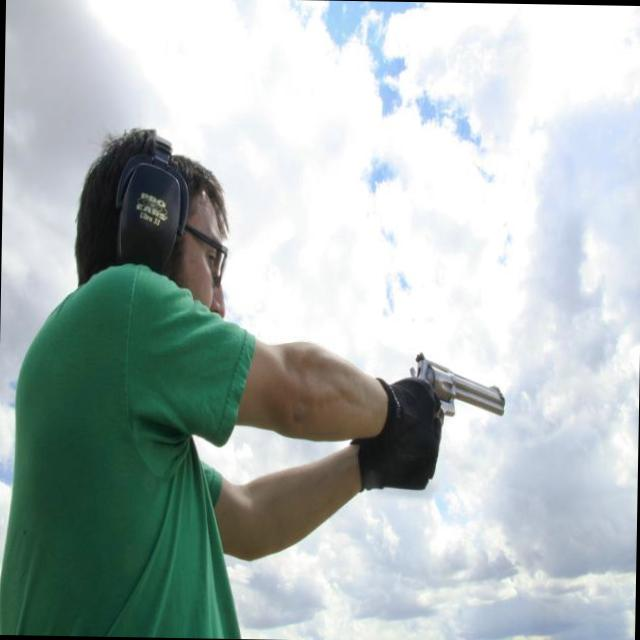Gun: (410, 353, 505, 415)
